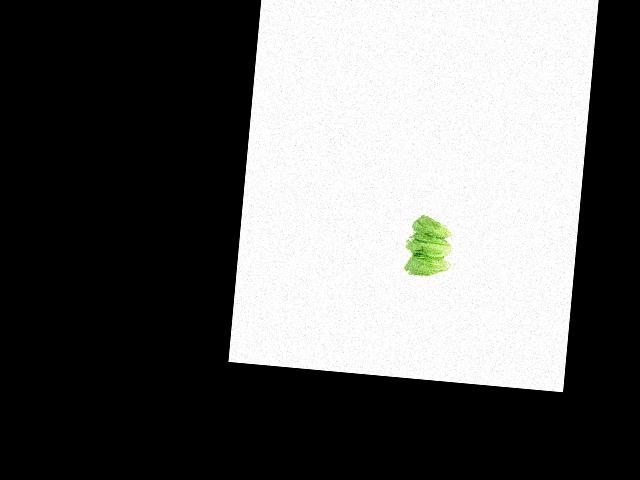lettuce: (409, 213, 464, 243)
